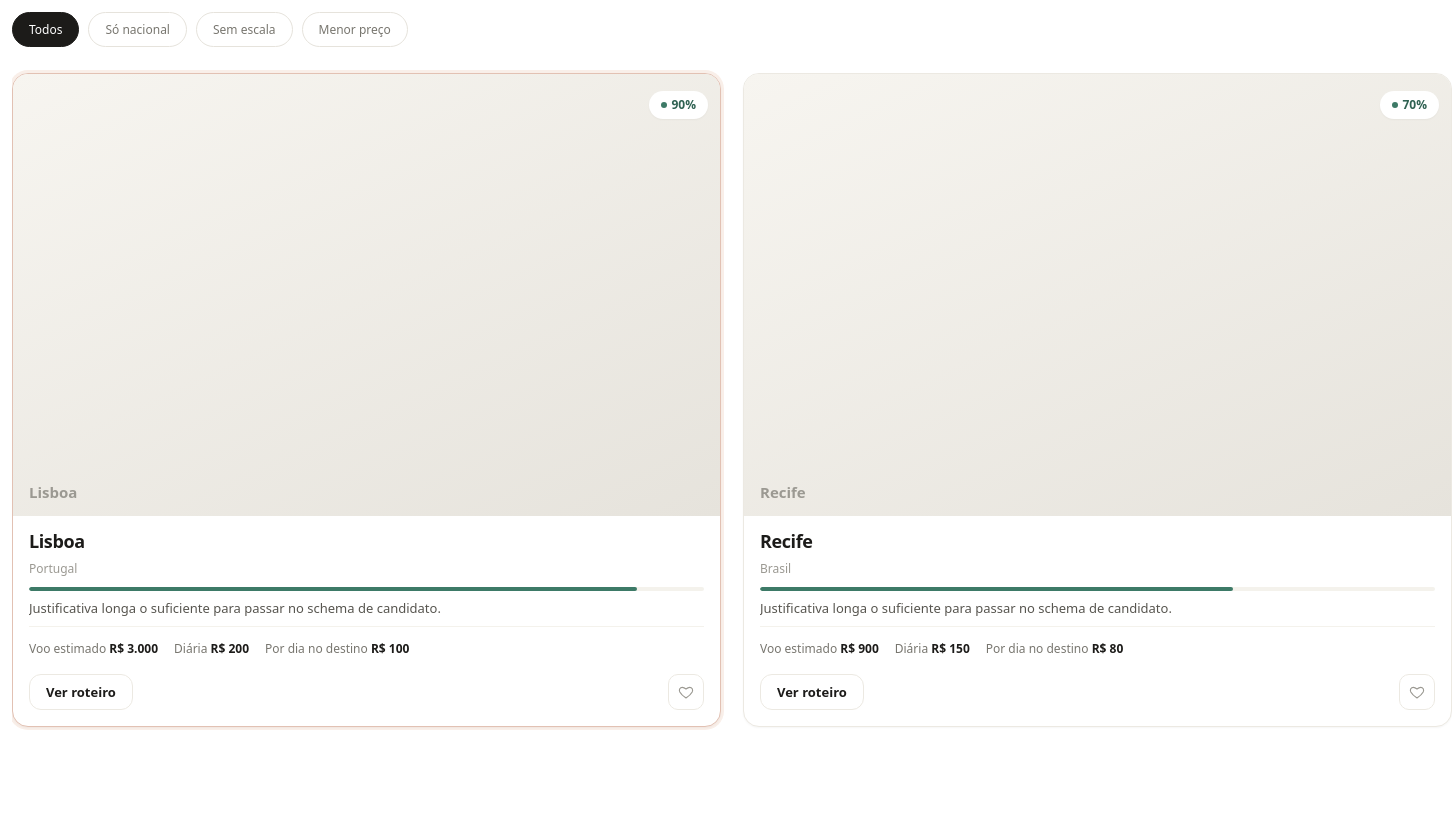
DestinationResults › salvar alterna por destino
The image size is (1452, 822).
Click the button named "Salvar Lisboa" at point(686, 692), box [668,674,704,710]
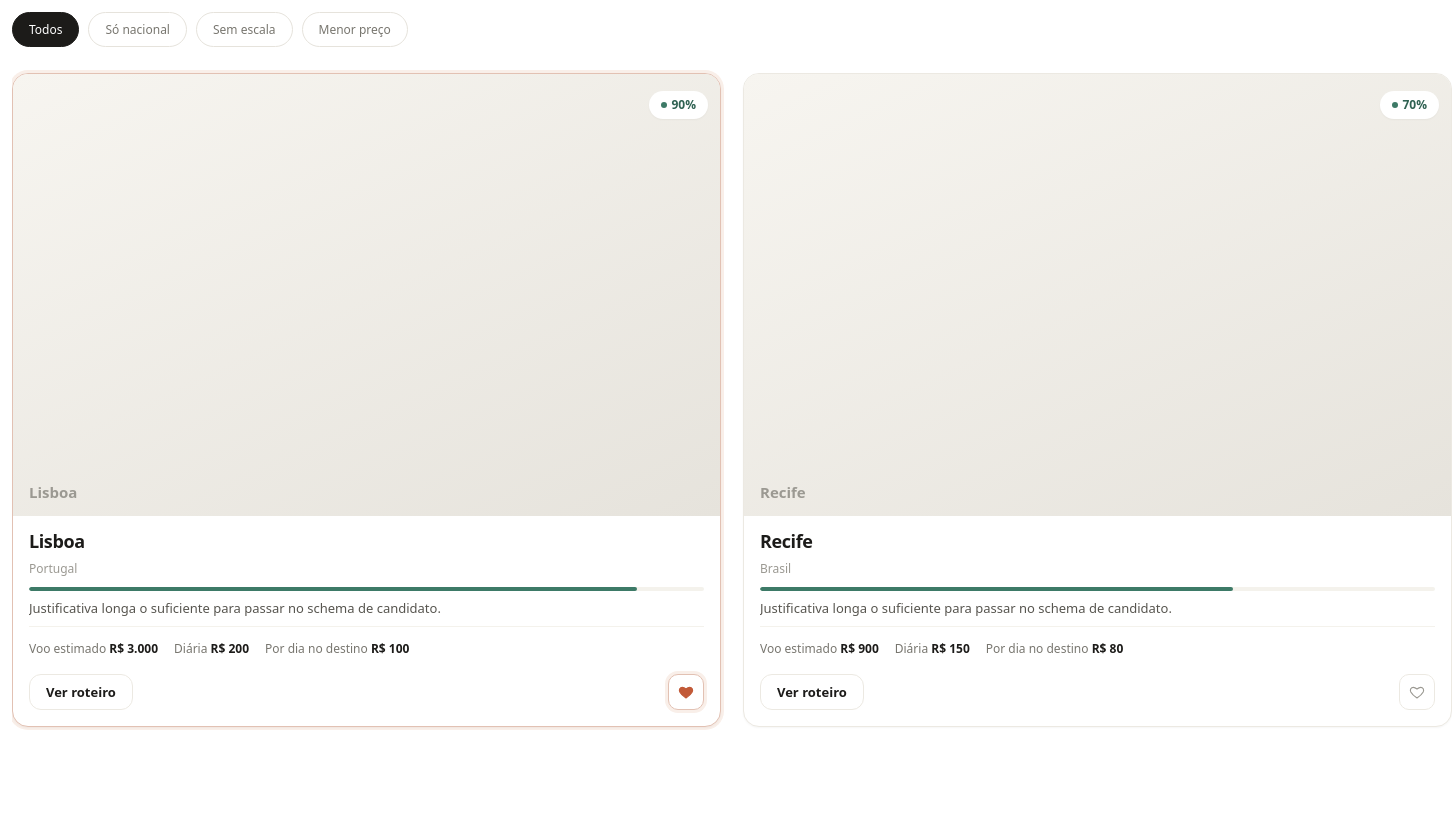
Expected: the button named "Salvar Recife" is shown, [1399,674,1435,710]
Result: the button named "Remover Lisboa dos salvos" is shown
Click the button named "Remover Lisboa dos salvos" at point(686, 692), box [668,674,704,710]
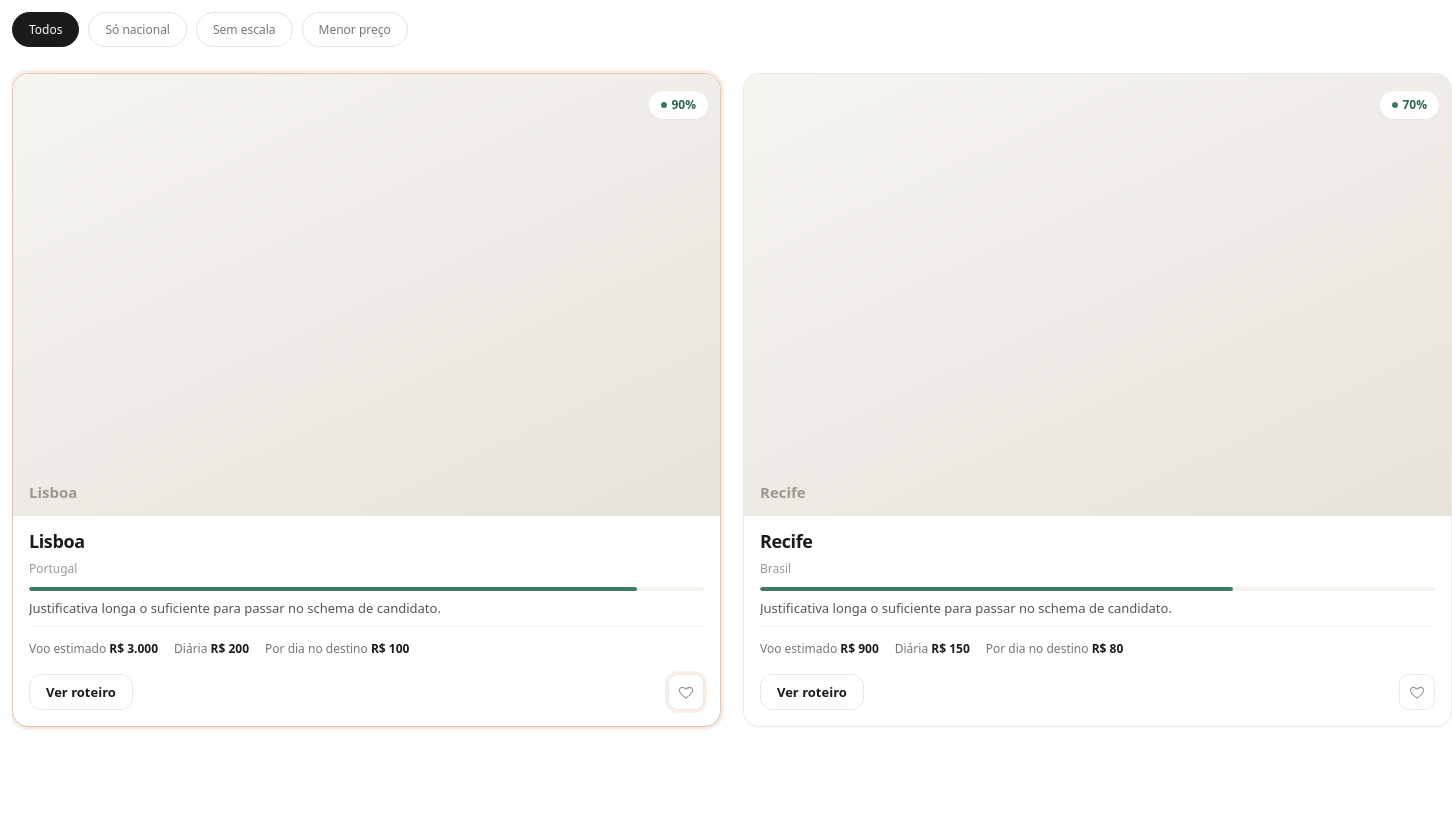
Result: the button named "Salvar Lisboa" is shown at [668,674,704,710]
